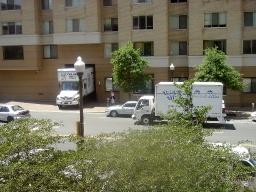car: (1, 102, 32, 124), (105, 99, 137, 116)
truck: (132, 82, 228, 125), (54, 66, 96, 111)
